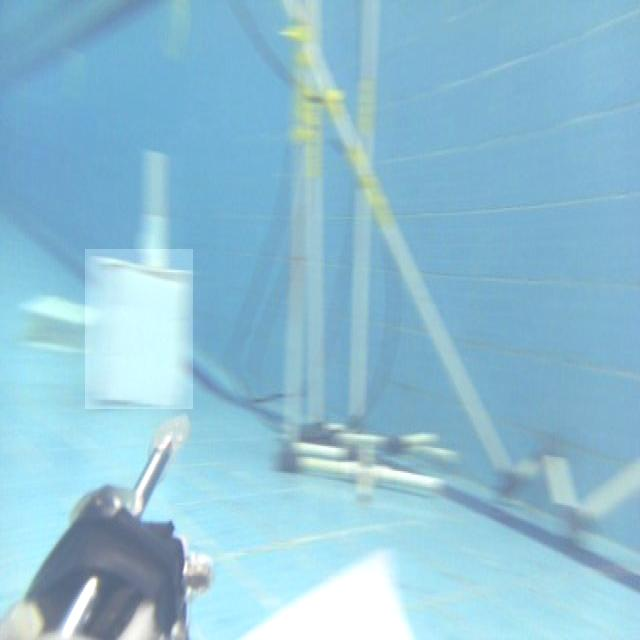Cube: (85, 249, 193, 409)
